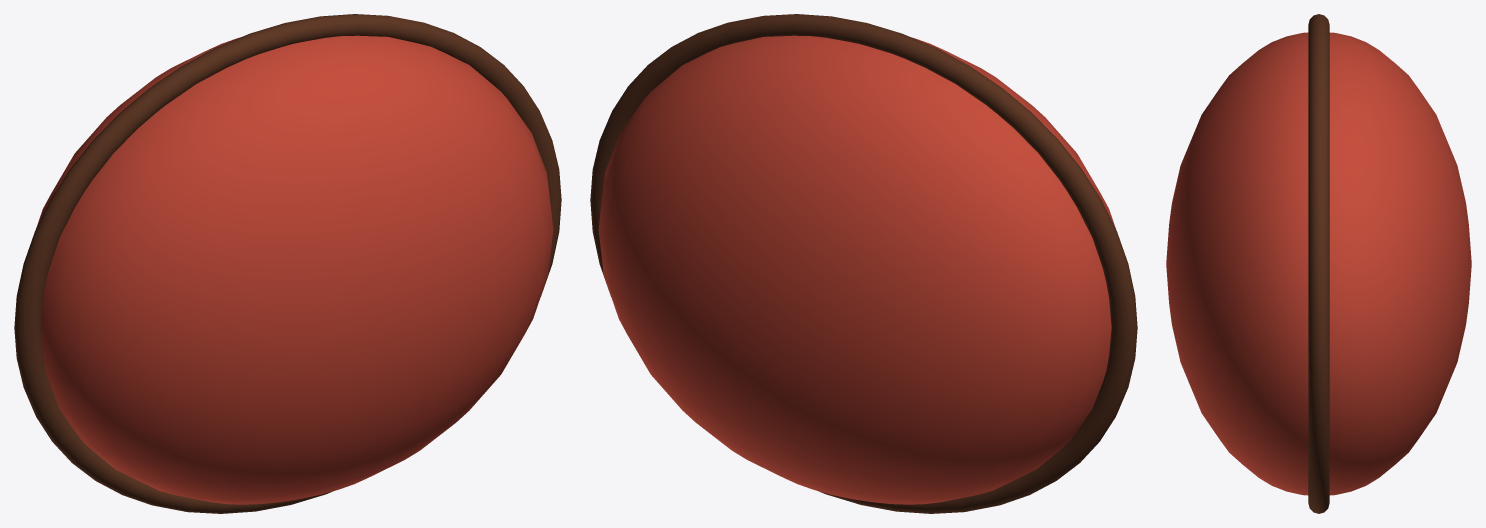
Rendered from nose.fbx.
3 renders of one model, left to right at view 1: azimuth 30°, elevation 25°; view 2: azimuth 150°, elevation 25°; view 3: azimuth 270°, elevation 25°, orthographic. The views are drawn at different scales.
Parts seen in each view (by area): view 1: Sphere, Torus.003; view 2: Sphere, Torus.003; view 3: Sphere, Torus.003.
Part boxes in pixels (x1,y1,x2,y2): Sphere: (36,35,553,504); Torus.003: (14,14,561,513); Sphere: (598,35,1115,504); Torus.003: (590,14,1137,513); Sphere: (1166,32,1471,495); Torus.003: (1308,14,1329,513).
Size of the model in its own units: 375 by 316 by 200.
